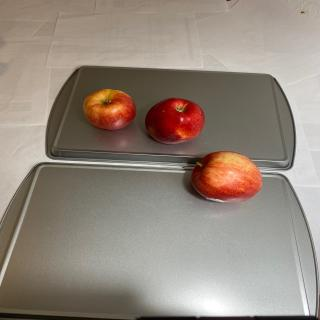Apple: (191, 151, 262, 203), (145, 98, 205, 144), (83, 89, 136, 130)
